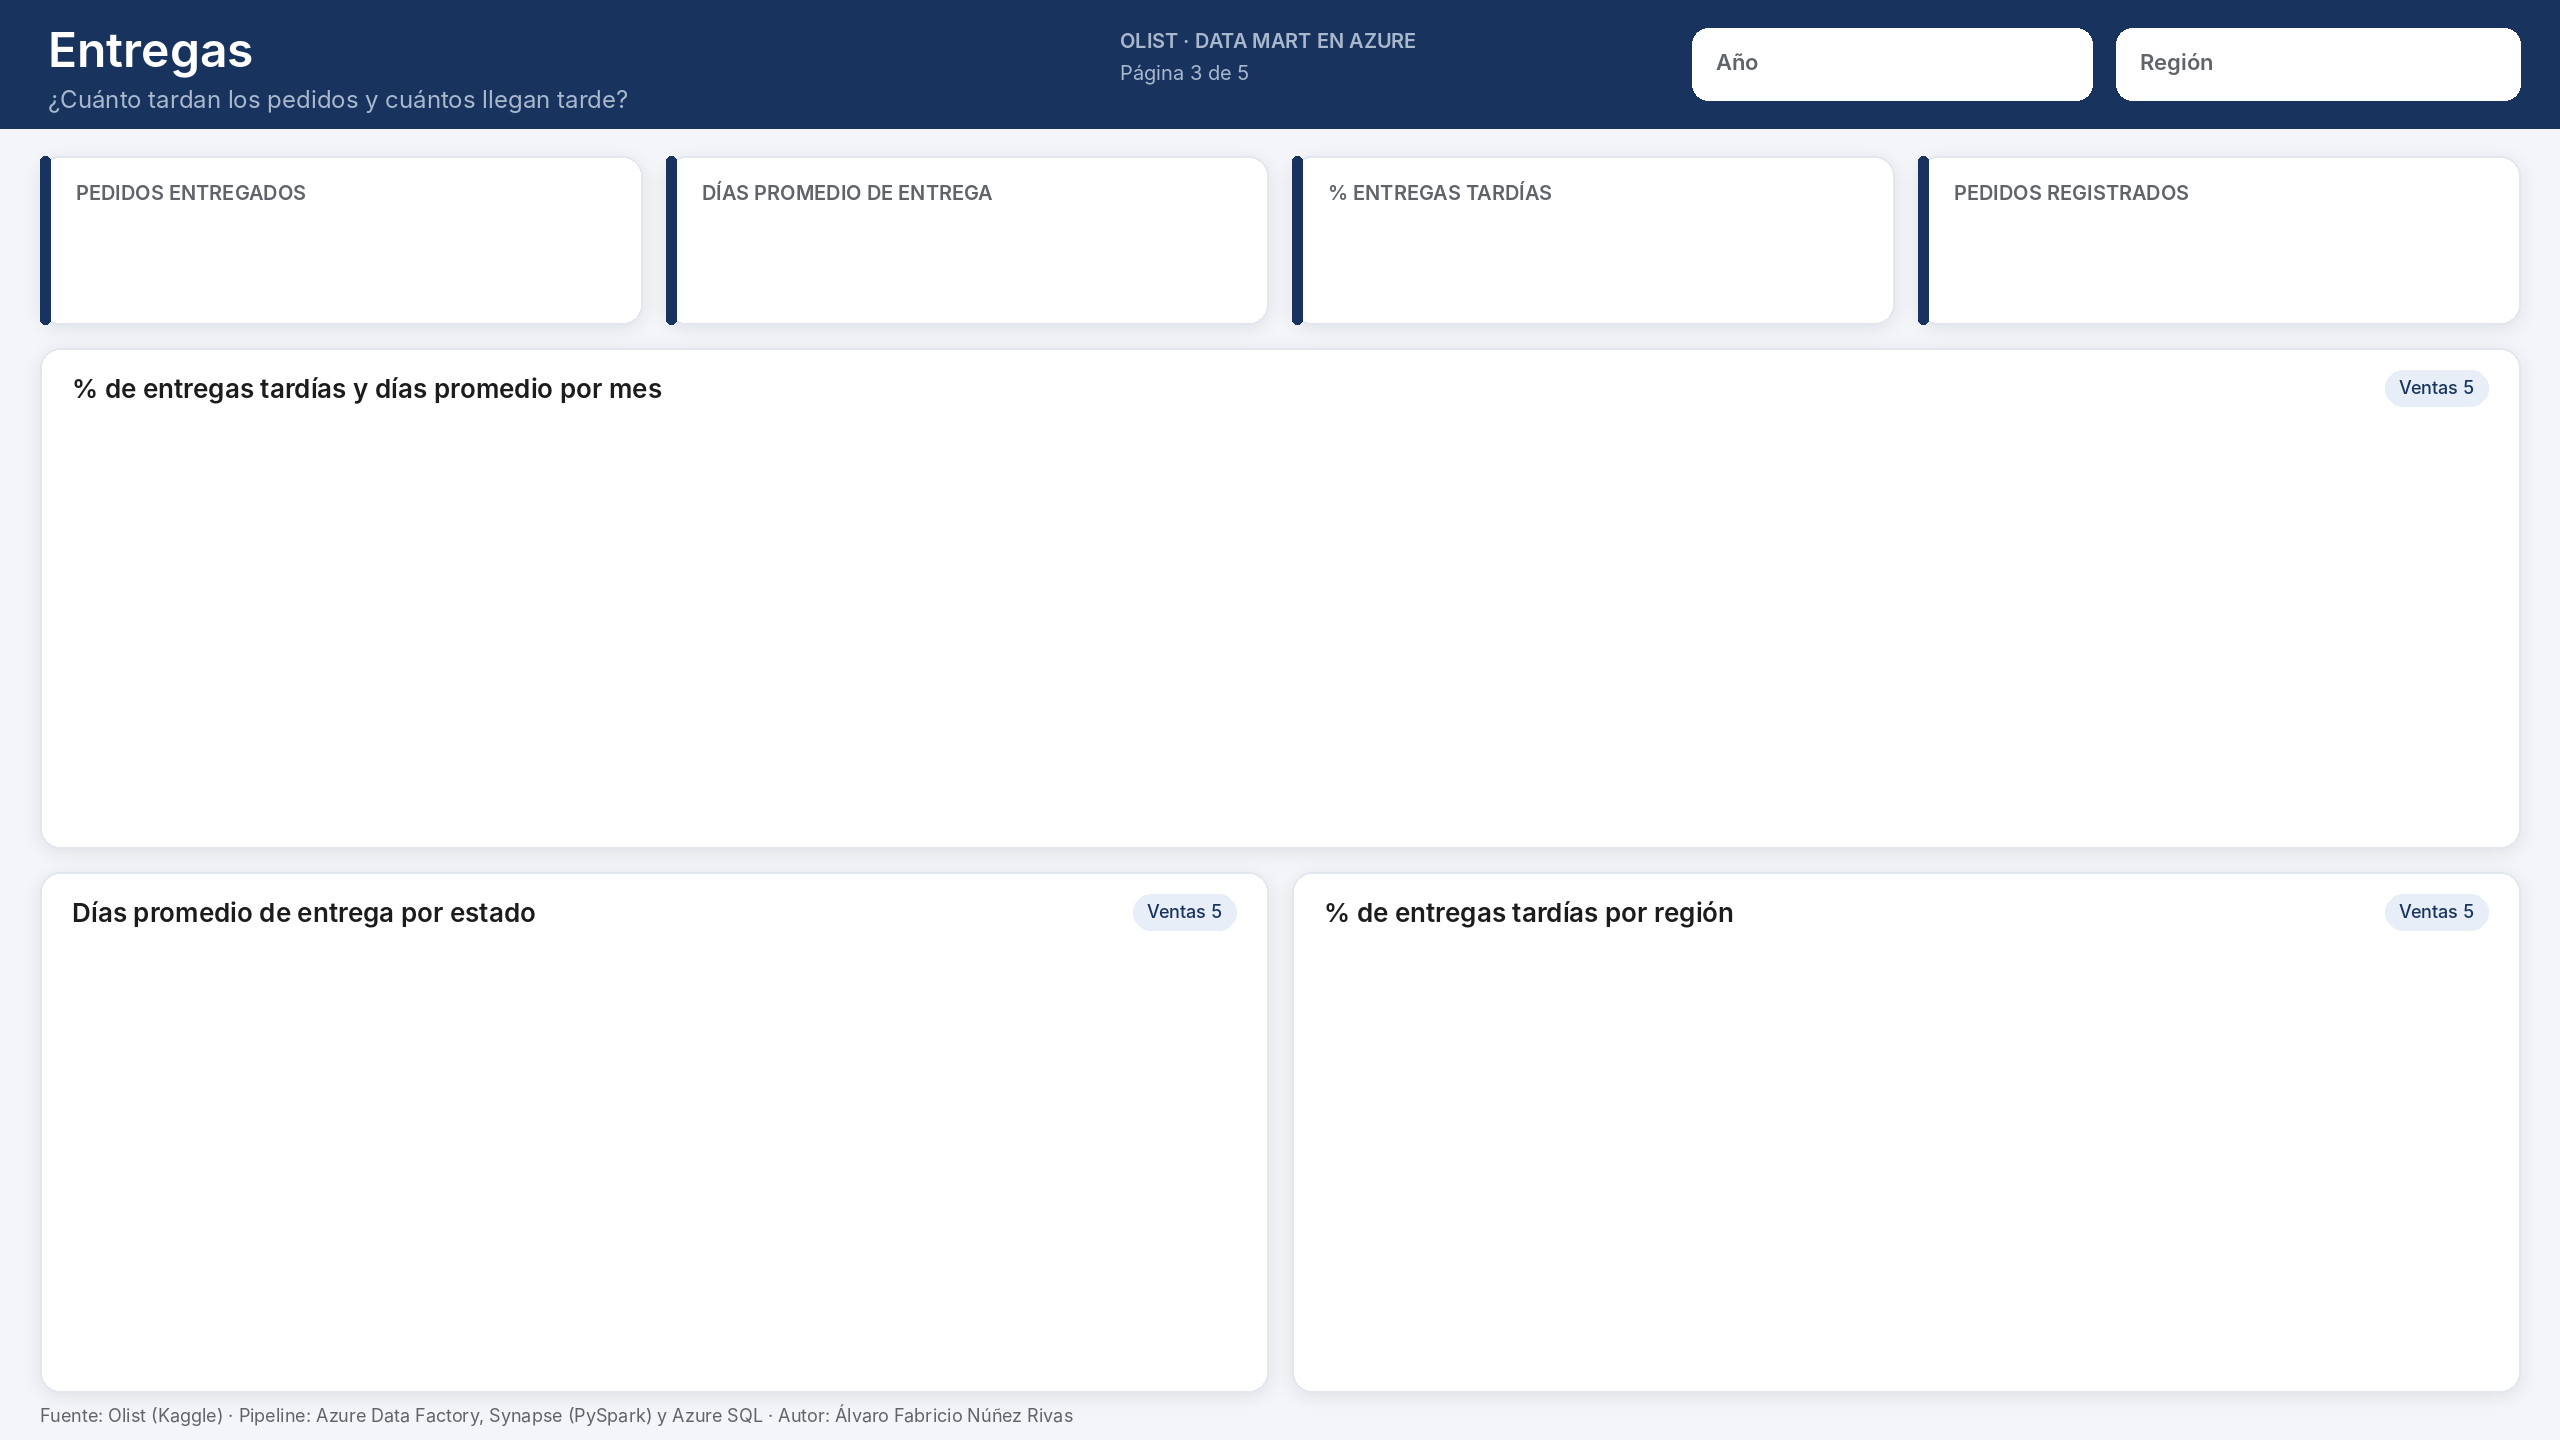

The dashboard page shown, as its layout file describes it:
{"tool":"powerbi","page":{"name":"Entregas","canvas":[1280,720],"ordinal":2},"visuals":[{"type":"slicer","fields":{"Values":["dim_fecha.anio"]},"box":[890,17,150,30],"z":0},{"type":"slicer","fields":{"Values":["dim_ubicacion.region"]},"box":[1112,17,144,30],"z":1},{"type":"card","fields":{"Values":["_Medidas.Pedidos entregados"]},"box":[28,100,289,60],"z":2},{"type":"card","fields":{"Values":["_Medidas.Días promedio de entrega"]},"box":[341,100,289,60],"z":3},{"type":"card","fields":{"Values":["_Medidas.% Entregas tardías"]},"box":[654,100,289,60],"z":4},{"type":"card","fields":{"Values":["_Medidas.Pedidos registrados"]},"box":[967,100,289,60],"z":5},{"type":"lineClusteredColumnComboChart","fields":{"Category":["dim_fecha.anio_mes"],"Y":["_Medidas.Días promedio de entrega"],"Y2":["_Medidas.% Entregas tardías"]},"box":[28,210,1224,206],"z":6},{"type":"clusteredBarChart","fields":{"Category":["dim_ubicacion.estado"],"Y":["_Medidas.Días promedio de entrega"]},"box":[28,472,598,216],"z":7},{"type":"clusteredColumnChart","fields":{"Category":["dim_ubicacion.region"],"Y":["_Medidas.% Entregas tardías"]},"box":[654,472,598,216],"z":8}]}

Visuals, with their boxes in screenshot pixels (x1, y1, x2, y2), scaled from the page's 1280x720 canvas onto the 2560x1440 screenshot:
slicer - dim_fecha.anio: x1=1780, y1=34, x2=2080, y2=94
slicer - dim_ubicacion.region: x1=2224, y1=34, x2=2512, y2=94
card - _Medidas.Pedidos entregados: x1=56, y1=200, x2=634, y2=320
card - _Medidas.Días promedio de entrega: x1=682, y1=200, x2=1260, y2=320
card - _Medidas.% Entregas tardías: x1=1308, y1=200, x2=1886, y2=320
card - _Medidas.Pedidos registrados: x1=1934, y1=200, x2=2512, y2=320
lineClusteredColumnComboChart - dim_fecha.anio_mes x _Medidas.Días promedio de entrega: x1=56, y1=420, x2=2504, y2=832
clusteredBarChart - dim_ubicacion.estado x _Medidas.Días promedio de entrega: x1=56, y1=944, x2=1252, y2=1376
clusteredColumnChart - dim_ubicacion.region x _Medidas.% Entregas tardías: x1=1308, y1=944, x2=2504, y2=1376
